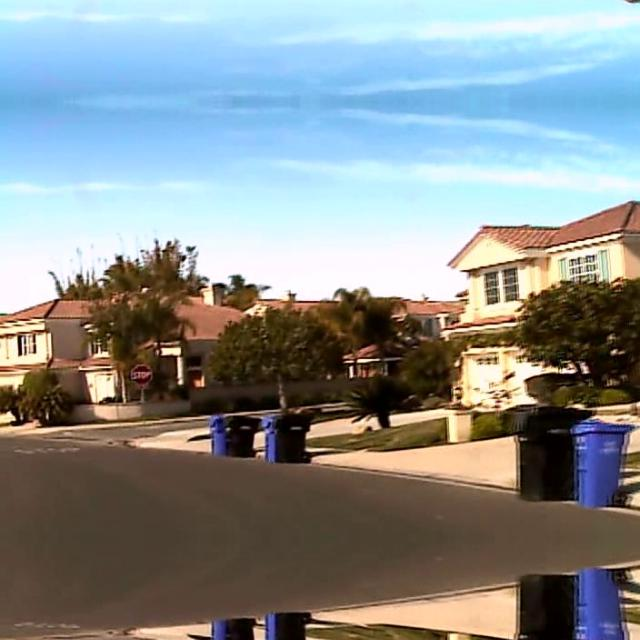stop: (128, 363, 152, 385)
